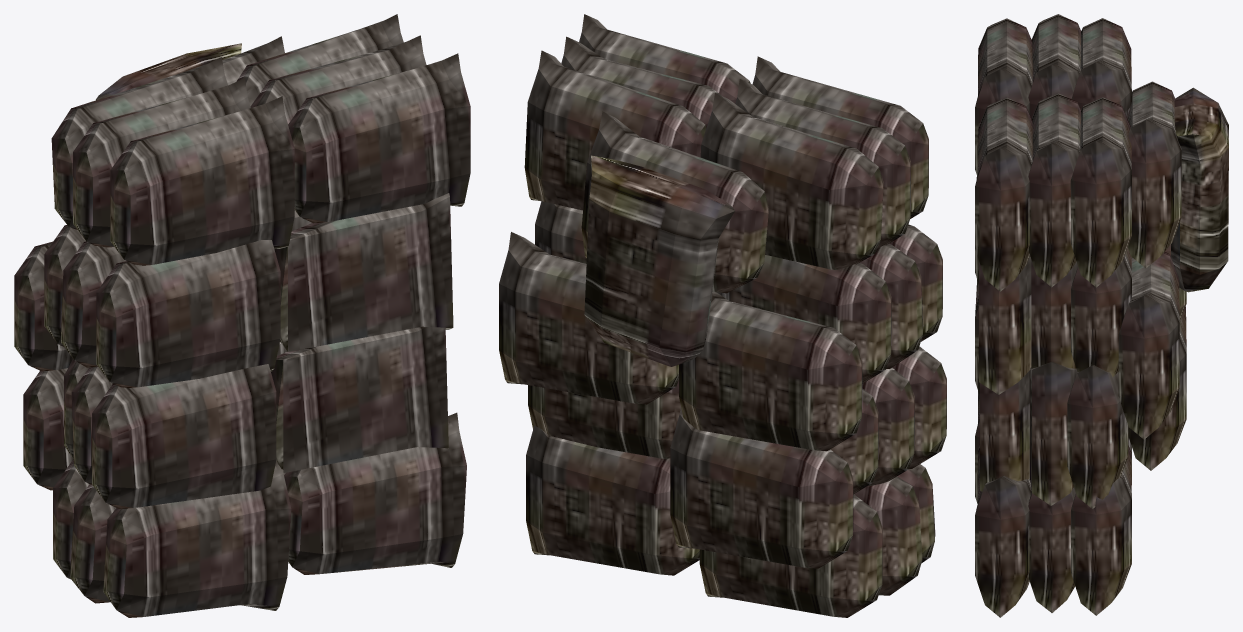
File: JuteBag1.fbx
3 renders of one model, left to right at view 1: azimuth 30°, elevation 25°; view 2: azimuth 150°, elevation 25°; view 3: azimuth 270°, elevation 25°, orthographic. The views are drawn at different scales.
Parts seen in each view (by area): view 1: Component1; view 2: Component1; view 3: Component1.
Boxes of the visible parts, left/top/right/bottom form: Component1: left=14, top=14, right=470, bottom=617; Component1: left=499, top=14, right=946, bottom=617; Component1: left=975, top=14, right=1228, bottom=617.
Size of the model in its own units: 273 by 363 by 176.
